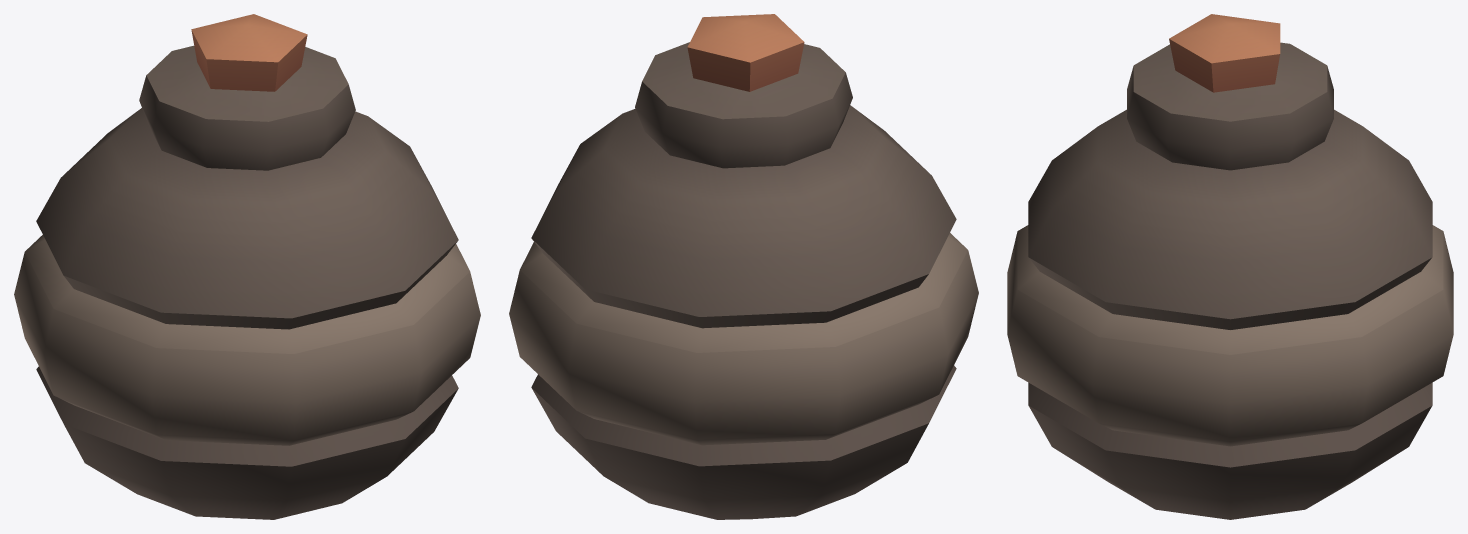
The model's file is smokebomb.glb.
3 renders of one model, left to right at view 1: azimuth 30°, elevation 25°; view 2: azimuth 150°, elevation 25°; view 3: azimuth 270°, elevation 25°, orthographic.
Visible parts, largest first — view 1: smokebomb; view 2: smokebomb; view 3: smokebomb.
Part boxes in pixels (x1=…): smokebomb: x1=14, y1=14, x2=480, y2=519; smokebomb: x1=509, y1=14, x2=978, y2=519; smokebomb: x1=1007, y1=14, x2=1453, y2=519.
Size of the model in its own units: 0.3826 by 0.4231 by 0.3639.
Materials: 1 (1 with a texture image).
